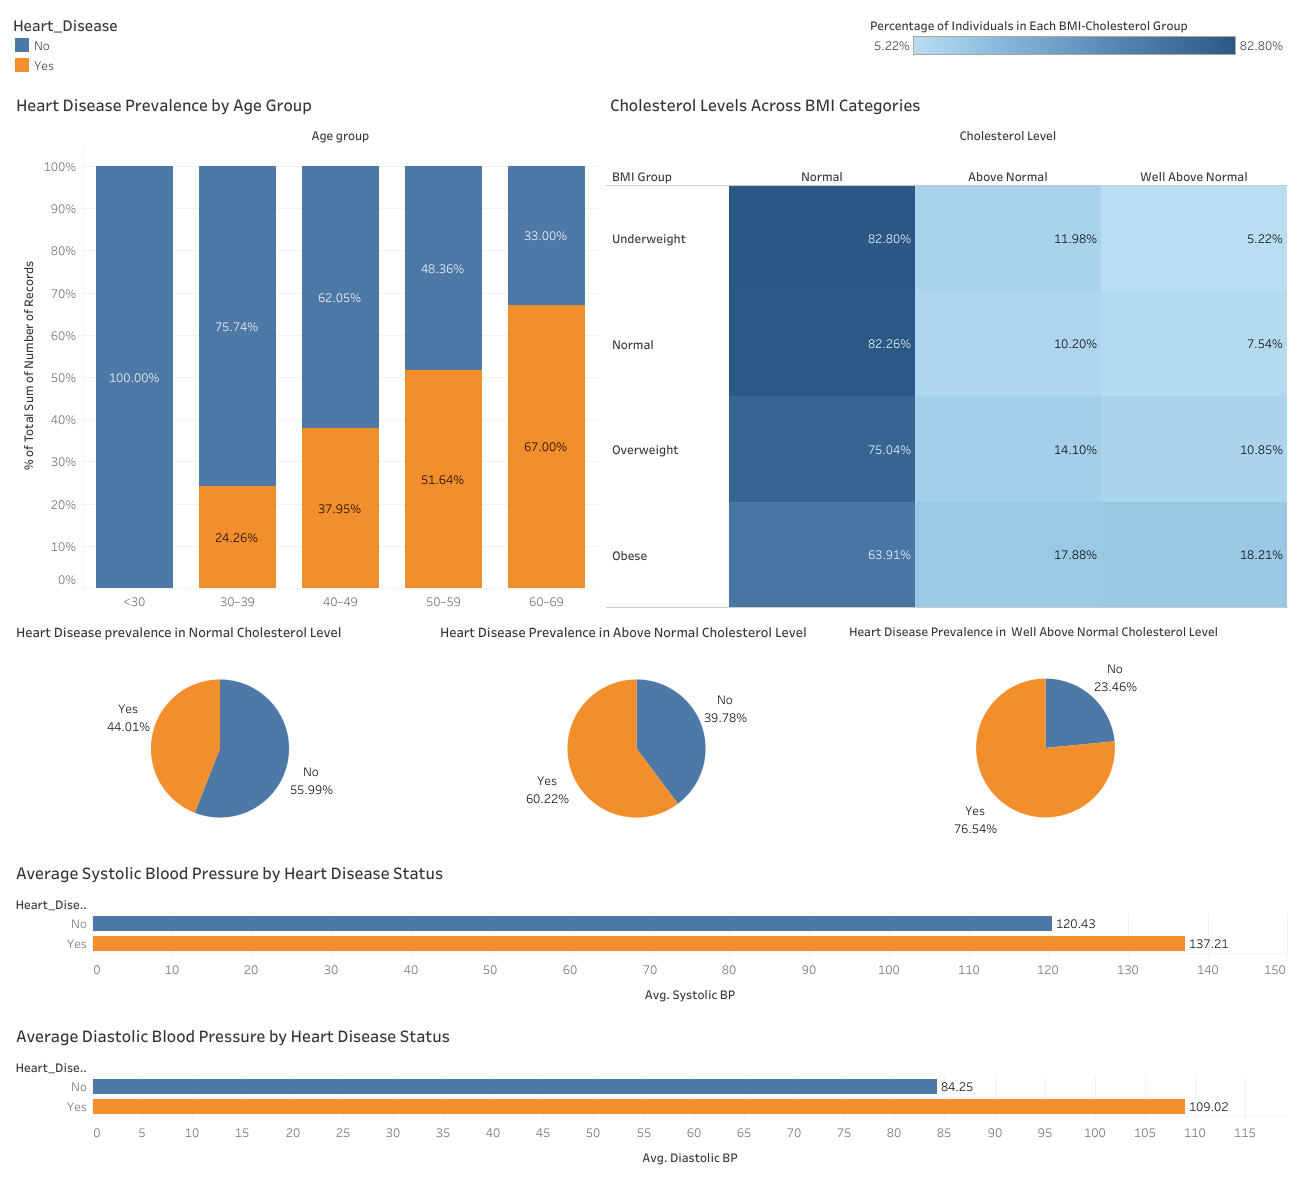

This screenshot's page, from the dashboard's own definition file:
{"tool":"tableau","page":{"name":"Dashboard","canvas":[1300,1200],"ordinal":0},"visuals":[{"type":"legend","title":"Heart Disease Risk by Age Group","param":"[federated.0rx1h9w10ozbi01chhqj01smsjgq].[none:Calculation_1055589354717859:nk]","box":[8,8,858,75.4]},{"type":"legend","title":"BMI Vs Cholestrol Heatmap","param":"[federated.0rx1h9w10ozbi01chhqj01smsjgq].[pcto:cnt:id:qk:4]","box":[866,8,426,75.4]},{"type":"worksheet","title":"Heart Disease Risk by Age Group","mark":"Automatic","cols":["Calculation_1055594898554880"],"box":[8,83.4,594,528.6]},{"type":"worksheet","title":"BMI Vs Cholestrol Heatmap","mark":"Square","rows":["Calculation_1055596637233165"],"cols":["Calculation_1055589358351015"],"box":[602,83.4,690,528.6]},{"type":"worksheet","title":"Normal Cholestrol Heart","mark":"Pie","box":[8,612,424.1,239.2]},{"type":"worksheet","title":"Above Normal Cholestrol Heart (2)","mark":"Pie","box":[432.1,612,409.1,239.2]},{"type":"worksheet","title":"Well Above Normal Cholestrol Heart","mark":"Pie","box":[841.1,612,409.1,239.2]},{"type":"worksheet","title":"Sys BP vs Heart","mark":"Bar","rows":["Calculation_1055589354717859"],"cols":["ap_hi"],"box":[8,851.2,1284,163]},{"type":"worksheet","title":"Dias BP vs Heart","mark":"Bar","rows":["Calculation_1055589354717859"],"cols":["ap_lo"],"box":[8,1014.2,1284,163]}]}

Visuals, with their boxes in screenshot pixels (x1, y1, x2, y2), scaled from the page's 1300x1200 canvas onto the 1299x1199 screenshot:
"Heart Disease Risk by Age Group" legend: [8,8,865,83]
"BMI Vs Cholestrol Heatmap" legend: [865,8,1291,83]
"Heart Disease Risk by Age Group" worksheet: [8,83,602,611]
"BMI Vs Cholestrol Heatmap" worksheet (Square marks): [602,83,1291,611]
"Normal Cholestrol Heart" worksheet (Pie marks): [8,611,432,850]
"Above Normal Cholestrol Heart (2)" worksheet (Pie marks): [432,611,841,850]
"Well Above Normal Cholestrol Heart" worksheet (Pie marks): [840,611,1249,850]
"Sys BP vs Heart" worksheet (Bar marks): [8,850,1291,1013]
"Dias BP vs Heart" worksheet (Bar marks): [8,1013,1291,1176]
